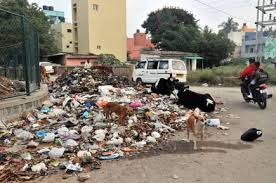garbage: (16, 112, 104, 174), (52, 75, 107, 158), (56, 126, 174, 154), (76, 69, 131, 101), (133, 95, 176, 135)
